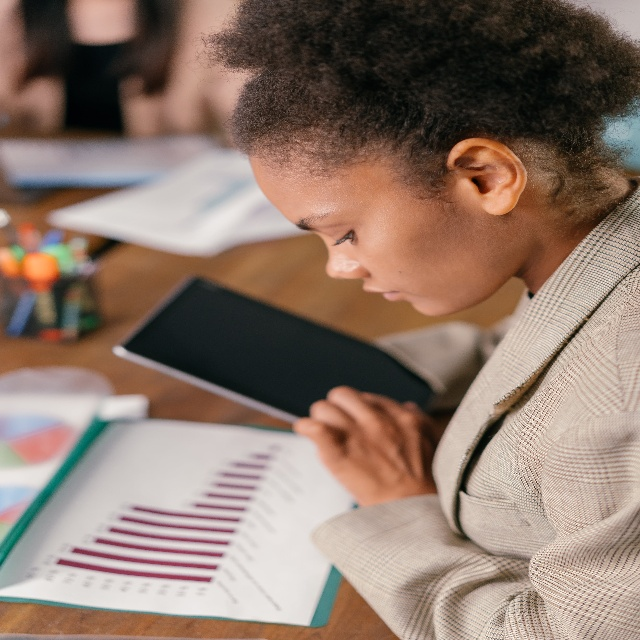Sin_guantes: (291, 383, 437, 505)
